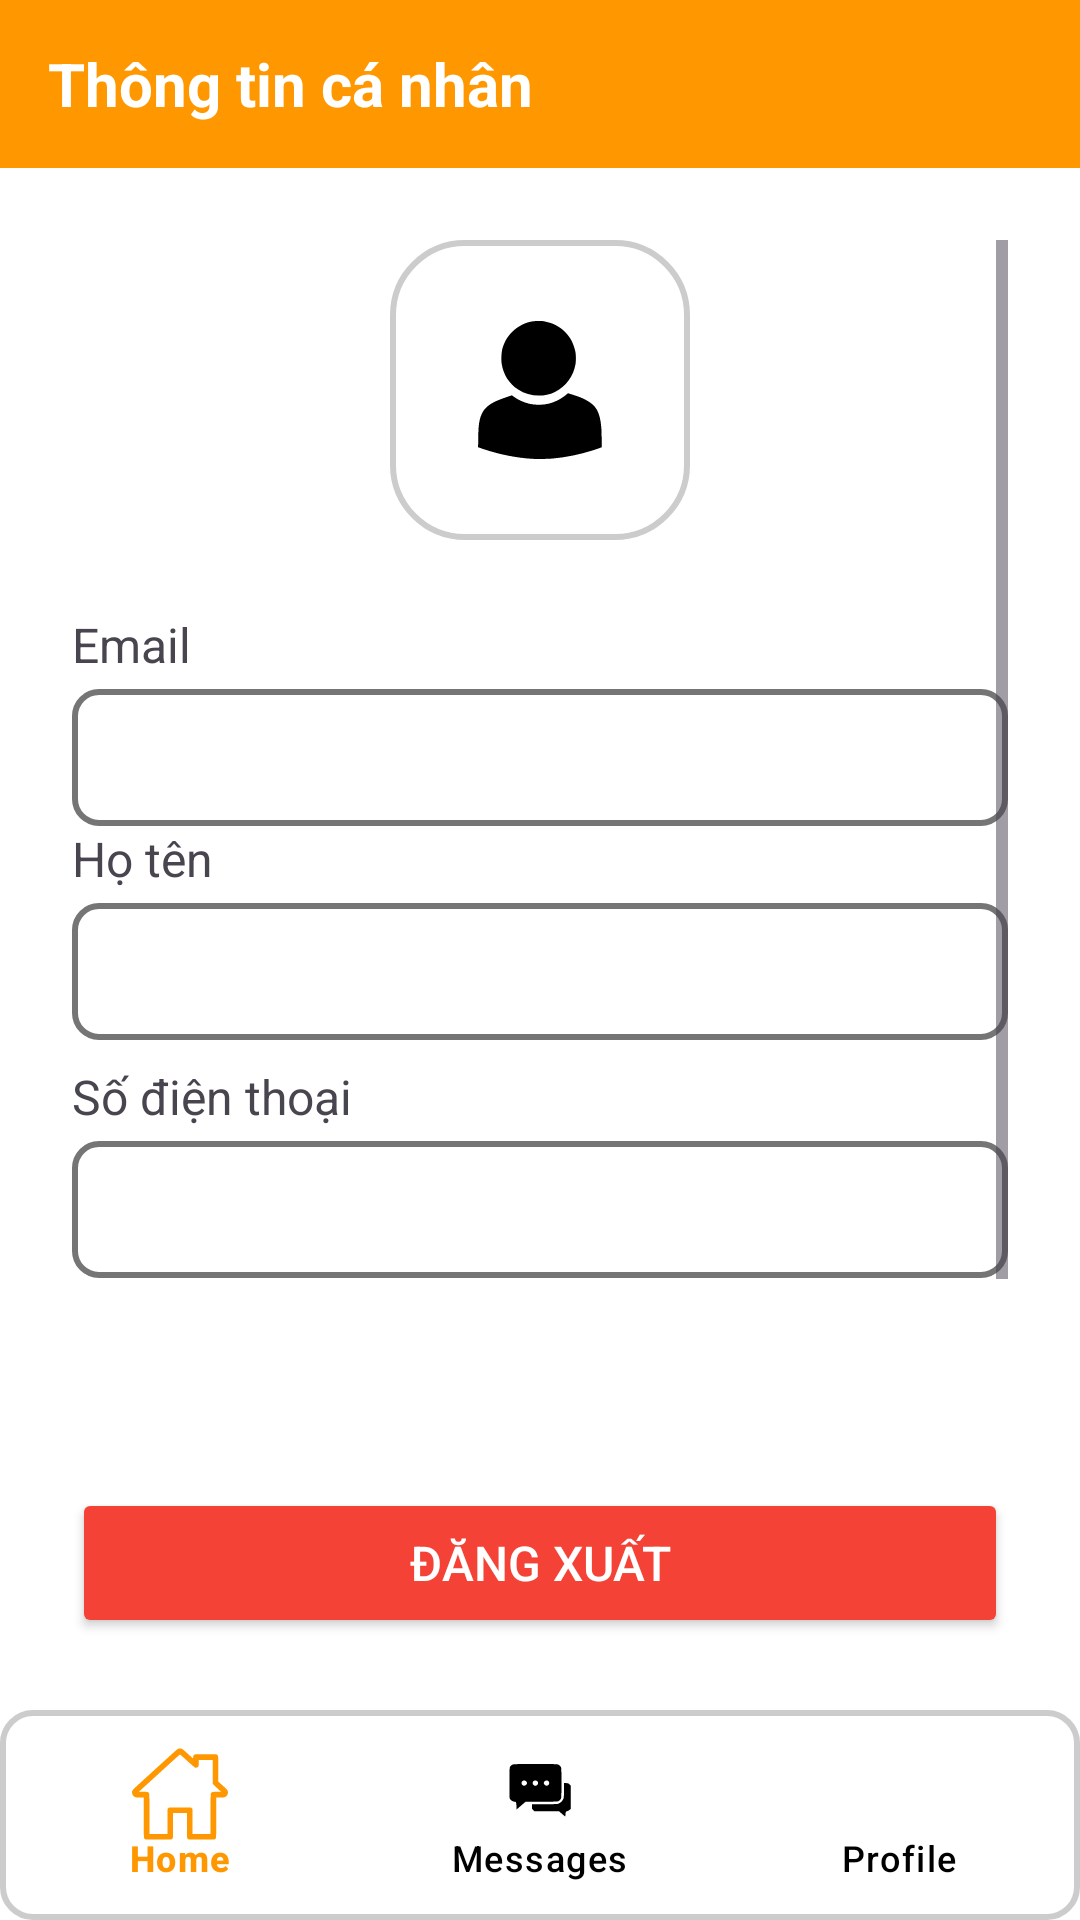

Icons on this 1080w x 1920h Android screen, each with its box as (x1, y1, x2, y2):
profile lg: (390, 240, 690, 540)
